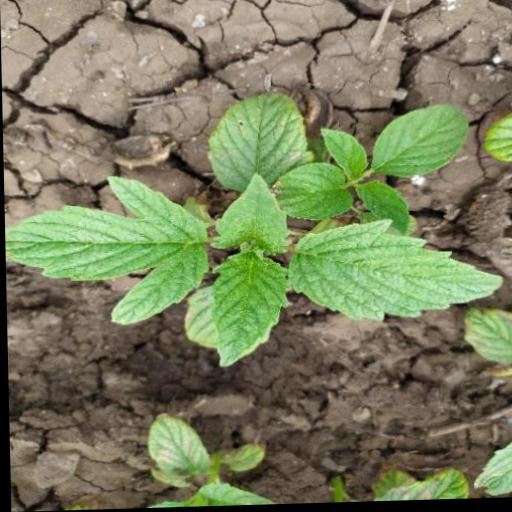weed: (1, 68, 494, 359)
